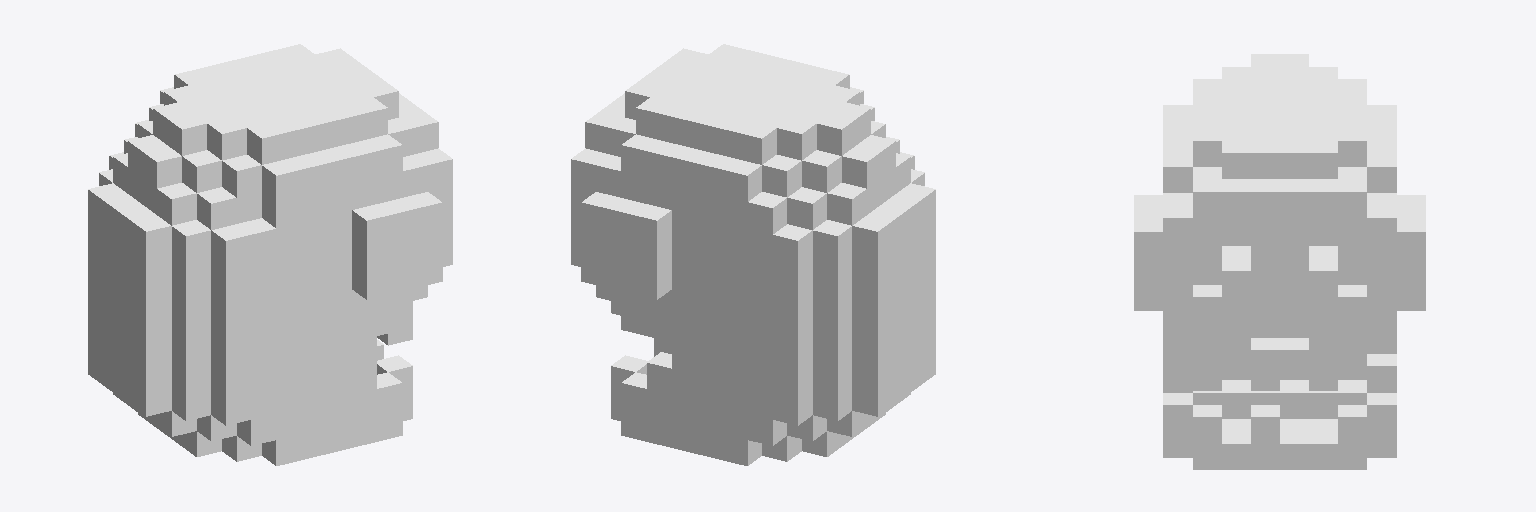
The model's file is game-5.obj.
The picture shows the model from 3 angles: view 1: azimuth 30°, elevation 25°; view 2: azimuth 150°, elevation 25°; view 3: azimuth 270°, elevation 25°; orthographic projection.
Parts seen in each view (by area): view 1: object 1; view 2: object 1; view 3: object 1.
Part boxes in pixels (bbox=[...]): object 1: bbox=[88, 44, 452, 465]; object 1: bbox=[571, 44, 935, 465]; object 1: bbox=[1134, 54, 1425, 469].
Bounding box in the file's own units: 1.1 × 1.2 × 1.